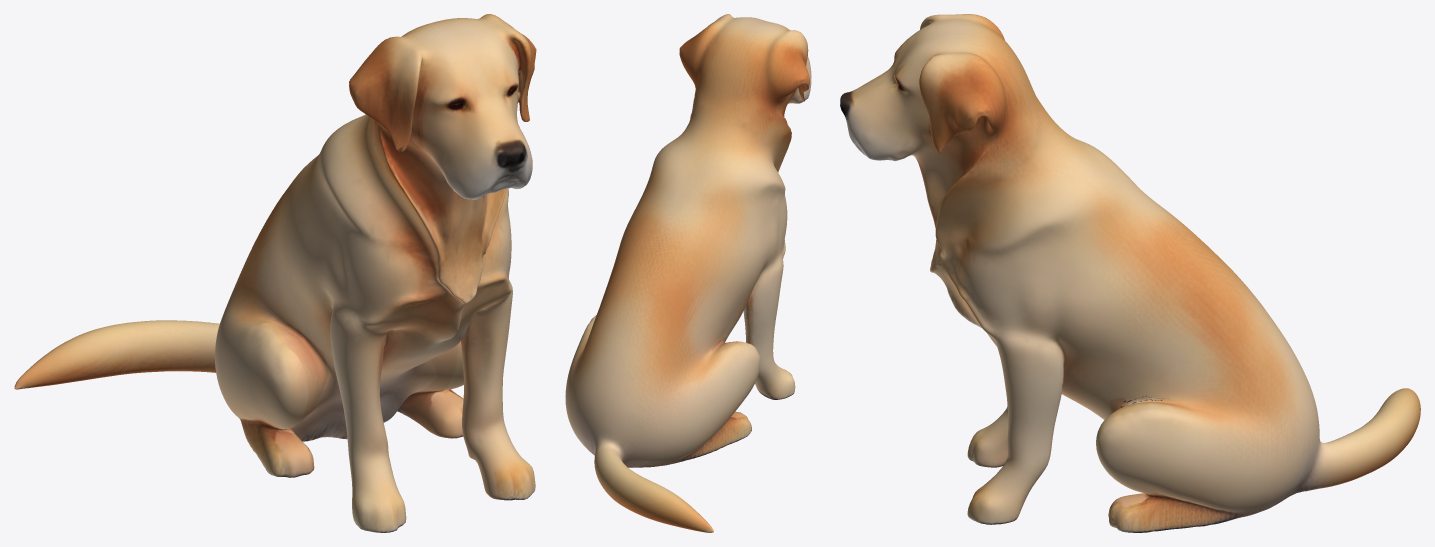
Rendered from dog_sitting.glb.
3 renders of one model, left to right at view 1: azimuth 30°, elevation 25°; view 2: azimuth 150°, elevation 25°; view 3: azimuth 270°, elevation 25°, orthographic. The views are drawn at different scales.
Parts seen in each view (by area): view 1: model; view 2: model; view 3: model.
Part boxes in pixels (x1,y1,x2,y2): model: [14, 14, 536, 532]; model: [565, 14, 811, 532]; model: [840, 14, 1420, 532].
Size of the model in its own units: 1.1 by 1.63 by 1.9.
Materials: 1 (1 with a texture image).
